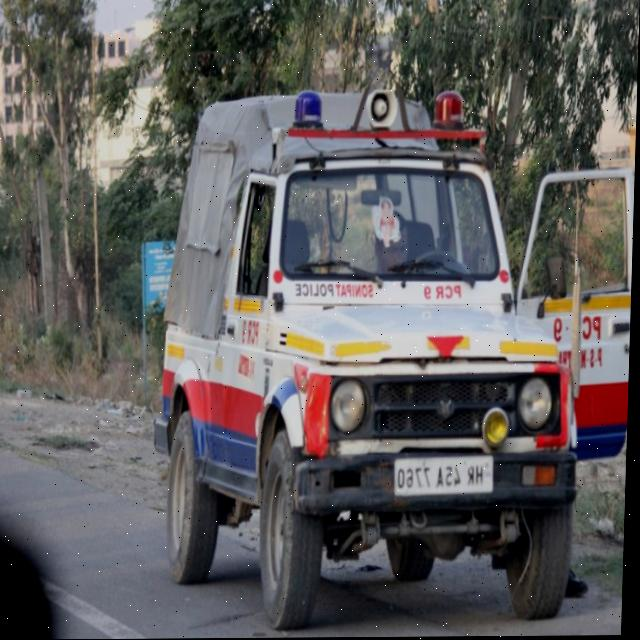plate: (395, 455, 497, 498)
